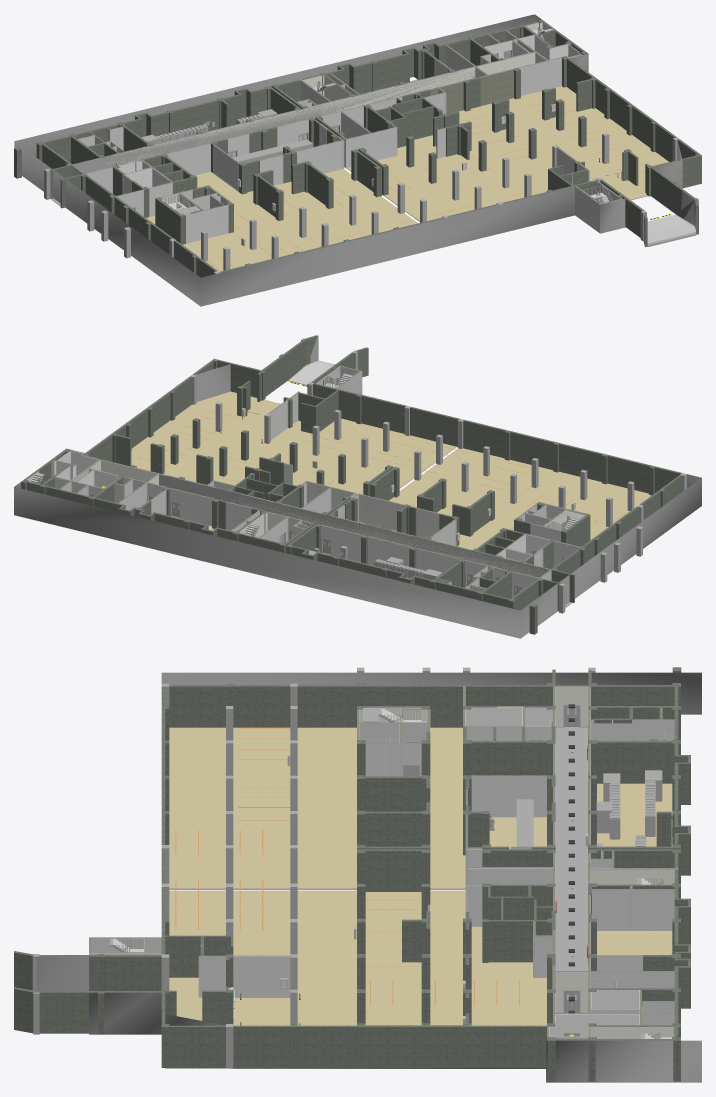
The picture shows the model from 3 angles, top to bottom: view 1: azimuth 30°, elevation 25°; view 2: azimuth 150°, elevation 25°; view 3: azimuth 270°, elevation 25°; orthographic projection. The views are drawn at different scales.
Visible parts, largest first — view 1: 表面 [603442], CA01 地胶板 [1006850], CA01 地胶板 [1006740], PT02 可擦洗涂料(选样) [534279], 内部（隔墙） - 砌块240 [475981], 内部（隔墙） - 砌块240 [474311], 内部（隔墙） - 砌块240 [608654], 内部（隔墙） - 砌块240 [473856], 建筑地坪 1 [603594], 基础墙（剪力墙）- 钢筋混凝土350 [464399], 内部（隔墙） - 砌块300 [467800], 内部（隔墙） - 砌块240 [473354] (+24 smaller); view 2: 表面 [603442], CA01 地胶板 [1006850], CA01 地胶板 [1006740], PT02 可擦洗涂料(选样) [534287], 基础墙（剪力墙）- 钢筋混凝土350 [468102], 基础墙（剪力墙）- 钢筋混凝土350 [468032], 基础墙（剪力墙）- 钢筋混凝土350 [468128], 基础墙（剪力墙）- 钢筋混凝土350 [468141], 基础墙（剪力墙）- 钢筋混凝土350 [468154], 基础墙（剪力墙）- 钢筋混凝土350 [468115], 内部（隔墙） - 砌块240 [473856], 内部（隔墙） - 砌块240 [475090] (+20 smaller); view 3: CA01 地胶板 [1006740], CA01 地胶板 [1006850], 表面 [603442], CT04 600x600防滑地砖 [476186], 内部（隔墙） - 砌块240 [391361], 基础墙（剪力墙）- 钢筋混凝土350 [466066], 基础墙（剪力墙）- 钢筋混凝土350 [465039], 内部（隔墙） - 砌块240 [474113], 基础墙（剪力墙）- 钢筋混凝土350 [465165], 基础墙（剪力墙）- 钢筋混凝土350 [463779], 基础墙（剪力墙）- 钢筋混凝土350 [466138], 基础墙（剪力墙）- 钢筋混凝土350 [505393] (+44 smaller).
Part boxes in pixels (x1,y1,x2,y2): 表面 [603442]: [14, 14, 682, 306]; CA01 地胶板 [1006850]: [346, 86, 668, 221]; CA01 地胶板 [1006740]: [146, 169, 417, 271]; PT02 可擦洗涂料(选样) [534279]: [74, 67, 475, 173]; 内部（隔墙） - 砌块240 [475981]: [345, 127, 397, 167]; 内部（隔墙） - 砌块240 [474311]: [185, 204, 228, 243]; 内部（隔墙） - 砌块240 [608654]: [518, 57, 561, 95]; 内部（隔墙） - 砌块240 [473856]: [295, 140, 342, 173]; 建筑地坪 1 [603594]: [647, 214, 696, 245]; 基础墙（剪力墙）- 钢筋混凝土350 [464399]: [173, 99, 218, 131]; 内部（隔墙） - 砌块300 [467800]: [480, 69, 513, 105]; 内部（隔墙） - 砌块240 [473354]: [166, 143, 210, 175]; 表面 [603442]: [14, 364, 701, 638]; CA01 地胶板 [1006850]: [131, 391, 456, 494]; CA01 地胶板 [1006740]: [360, 448, 651, 549]; PT02 可擦洗涂料(选样) [534287]: [159, 474, 549, 577]; 基础墙（剪力墙）- 钢筋混凝土350 [468102]: [410, 407, 459, 446]; 基础墙（剪力墙）- 钢筋混凝土350 [468032]: [361, 395, 406, 433]; 基础墙（剪力墙）- 钢筋混凝土350 [468128]: [510, 431, 555, 469]; 基础墙（剪力墙）- 钢筋混凝土350 [468141]: [559, 443, 603, 481]; 基础墙（剪力墙）- 钢筋混凝土350 [468154]: [607, 455, 651, 493]; 基础墙（剪力墙）- 钢筋混凝土350 [468115]: [463, 420, 506, 458]; 内部（隔墙） - 砌块240 [473856]: [358, 494, 404, 531]; 内部（隔墙） - 砌块240 [475090]: [170, 488, 214, 526]; CA01 地胶板 [1006740]: [169, 727, 546, 889]; CA01 地胶板 [1006850]: [169, 891, 546, 1025]; 表面 [603442]: [89, 672, 701, 1082]; CT04 600x600防滑地砖 [476186]: [556, 727, 587, 1013]; 内部（隔墙） - 砌块240 [391361]: [592, 889, 674, 930]; 基础墙（剪力墙）- 钢筋混凝土350 [466066]: [471, 1025, 546, 1067]; 基础墙（剪力墙）- 钢筋混凝土350 [465039]: [597, 741, 672, 783]; 内部（隔墙） - 砌块240 [474113]: [471, 775, 546, 817]; 基础墙（剪力墙）- 钢筋混凝土350 [465165]: [471, 741, 546, 775]; 基础墙（剪力墙）- 钢筋混凝土350 [463779]: [297, 685, 356, 727]; 基础墙（剪力墙）- 钢筋混凝土350 [466138]: [297, 1025, 356, 1067]; 基础墙（剪力墙）- 钢筋混凝土350 [505393]: [25, 991, 97, 1033].
Size of the model in its own units: 82.49 by 4.34 by 64.24.
24 materials, 6 textured.
